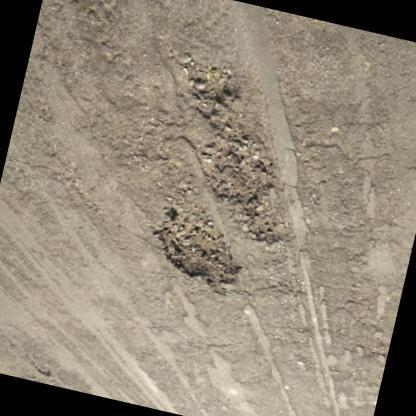pothole: (182, 57, 290, 250), (157, 206, 242, 302)
